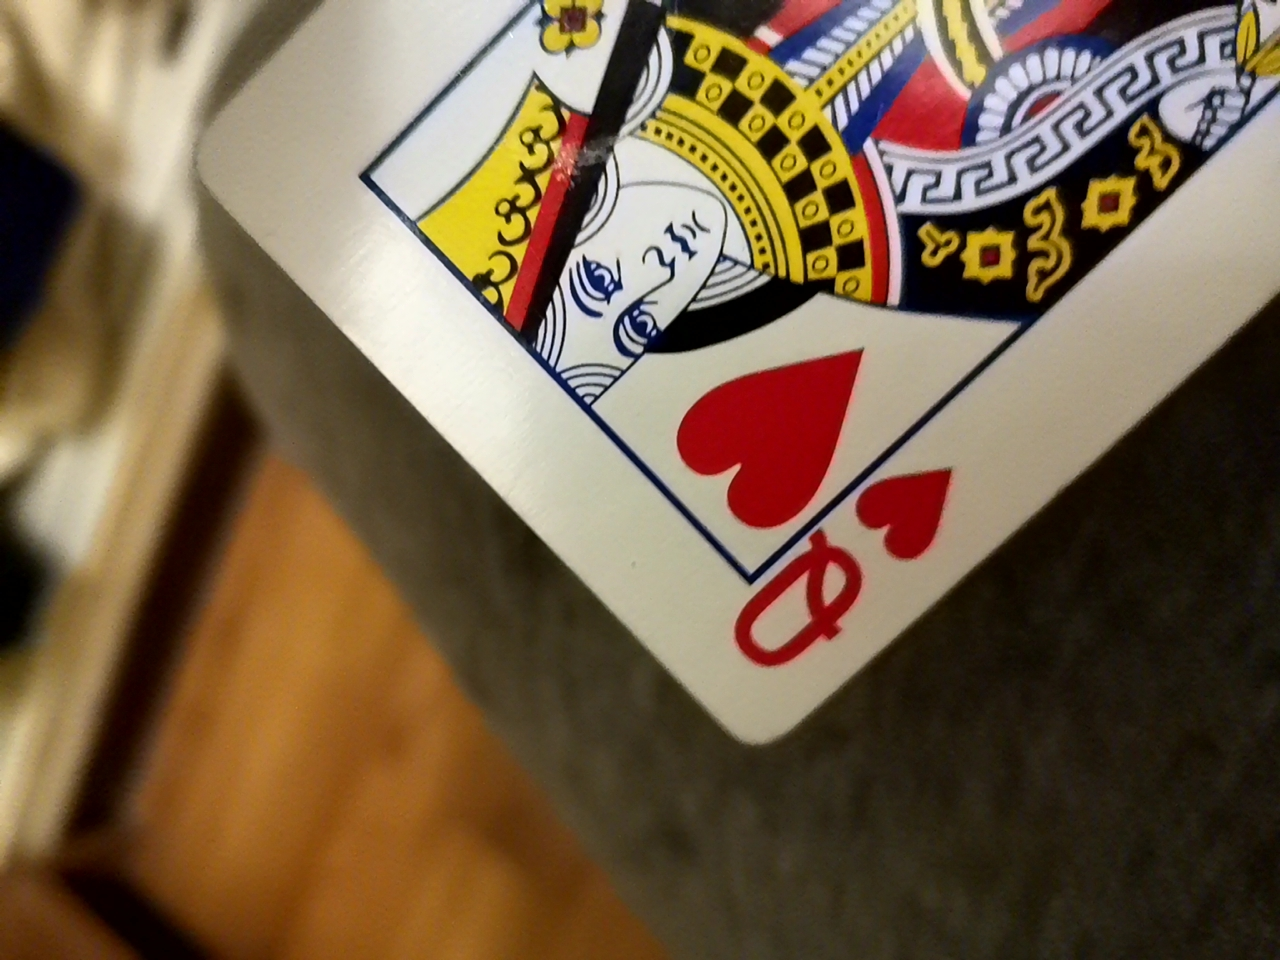hx q: (262, 1, 1271, 767)
